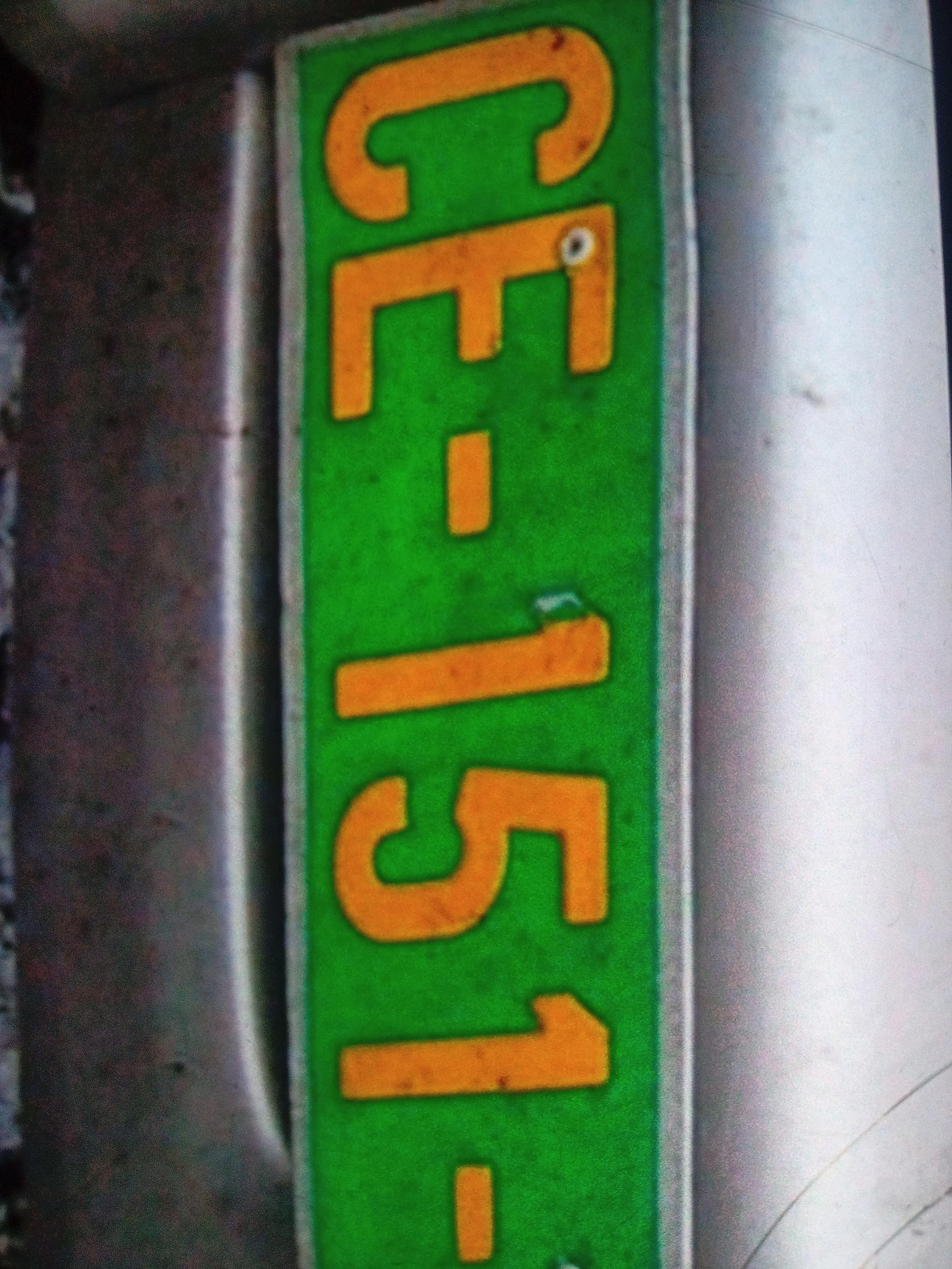green license plate: (268, 1, 695, 1269)
